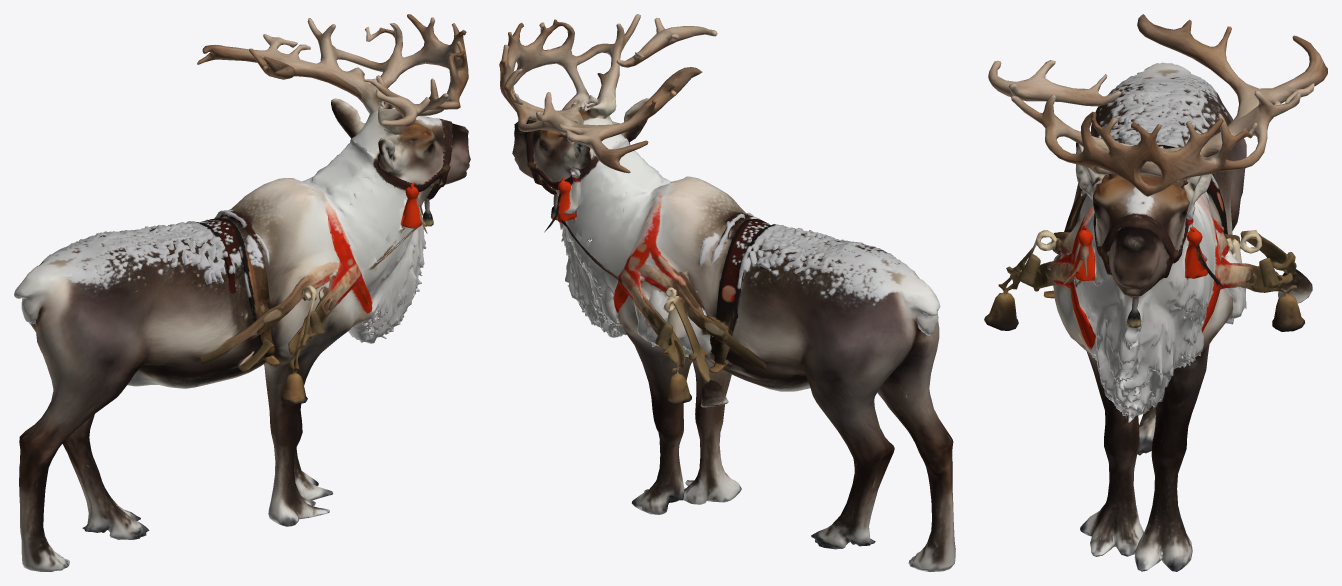
File: np-3d-reindeer.glb
The picture shows the model from 3 angles, left to right: view 1: azimuth 30°, elevation 25°; view 2: azimuth 150°, elevation 25°; view 3: azimuth 270°, elevation 25°; orthographic projection. The views are drawn at different scales.
Bounding box in the file's own units: 0.9995 × 0.9418 × 0.5565.
Materials: 1 (1 with a texture image).
